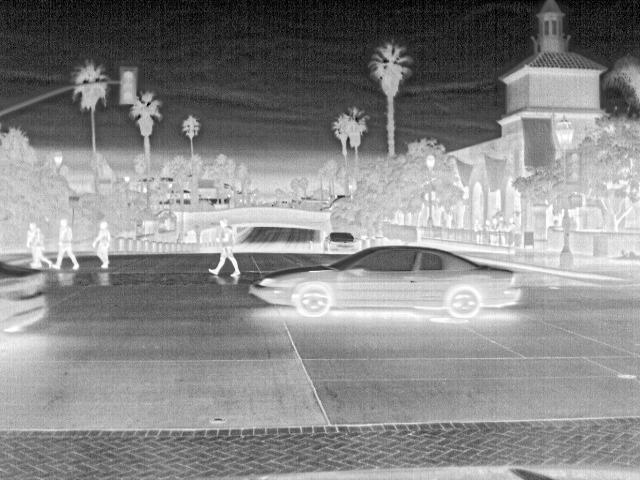car: (248, 243, 524, 320), (1, 258, 49, 334), (325, 230, 358, 257)
person: (206, 221, 244, 280), (50, 218, 81, 270), (25, 222, 53, 268), (92, 218, 114, 270), (506, 214, 519, 232), (498, 213, 510, 230), (471, 218, 485, 232), (489, 216, 501, 232), (483, 218, 495, 232)
